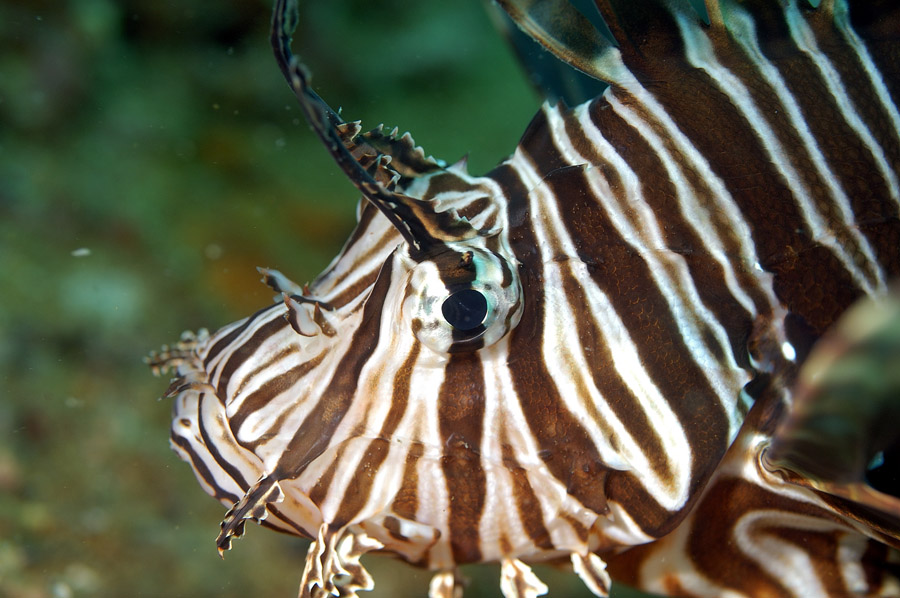Pterois_volitans: (122, 55, 864, 582)
